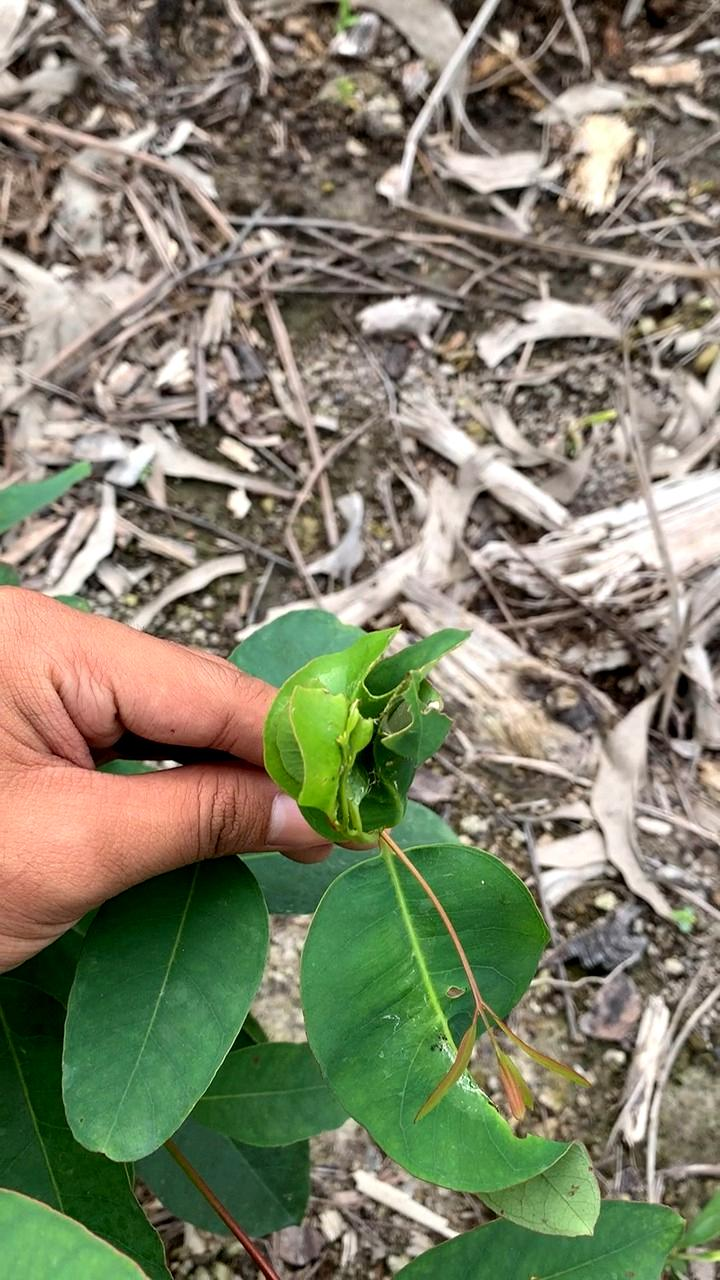Leaf Roller - Leaf: (237, 603, 525, 870)
